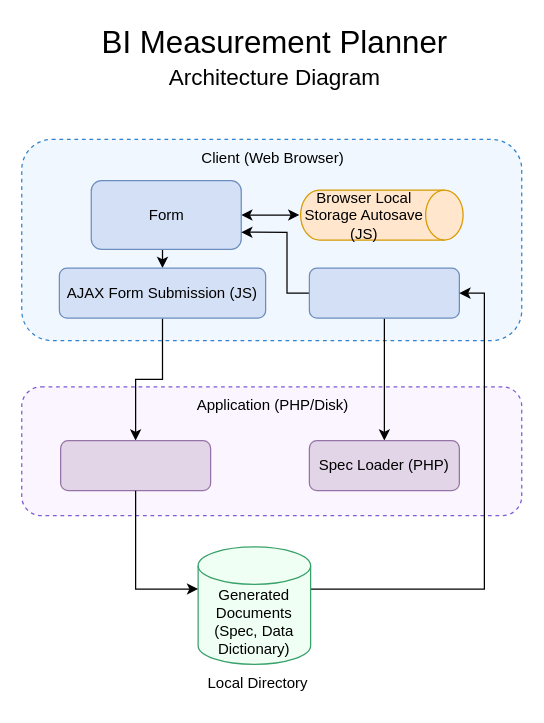
Image size: 544x723. Some labels were removed from this diagram. Each missing label, with the centre of its shape:
Spec Generation (PHP): point 135,465
Spec Loader (JS): point 383,292
